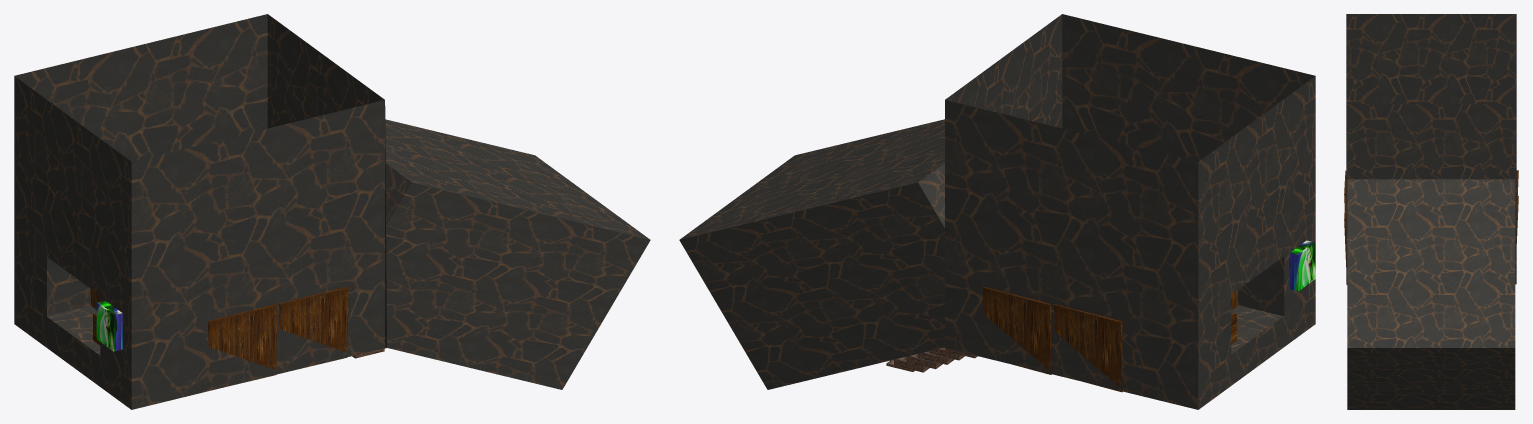
The model's file is study.glb.
The picture shows the model from 3 angles, left to right: view 1: azimuth 30°, elevation 25°; view 2: azimuth 150°, elevation 25°; view 3: azimuth 270°, elevation 25°; orthographic projection. The views are drawn at different scales.
Parts seen in each view (by area): view 1: Room, Bookshelf, Painting; view 2: Room, Bookshelf, Stairs.006, Painting; view 3: Room, Bookshelf.
Boxes of the visible parts, x1,y1,x2,y2 form: Room: (14, 14, 650, 409); Bookshelf: (90, 286, 348, 384); Painting: (96, 300, 122, 351); Room: (679, 14, 1315, 409); Bookshelf: (983, 286, 1237, 392); Stairs.006: (886, 347, 977, 372); Painting: (1289, 240, 1315, 291); Room: (1346, 14, 1516, 409); Bookshelf: (1344, 170, 1518, 266).
Size of the model in its own units: 31.23 by 18.85 by 12.29.
9 materials, 9 textured.
